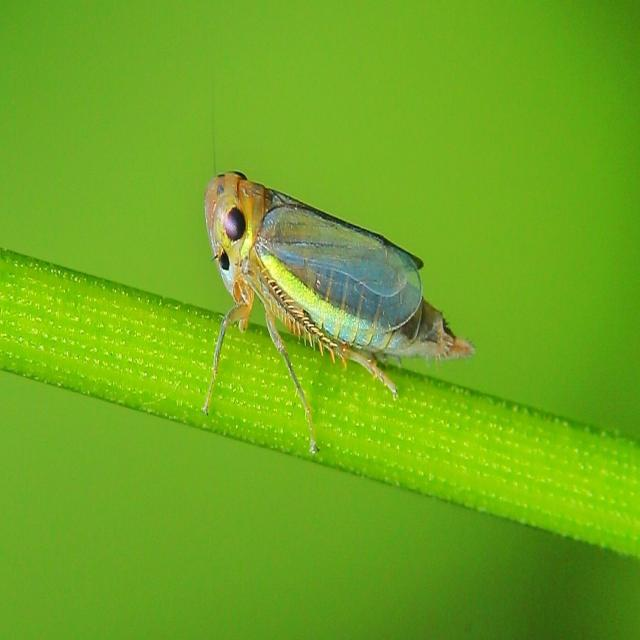Yechan: (200, 168, 478, 402)
